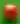red: (0, 0, 20, 24)
